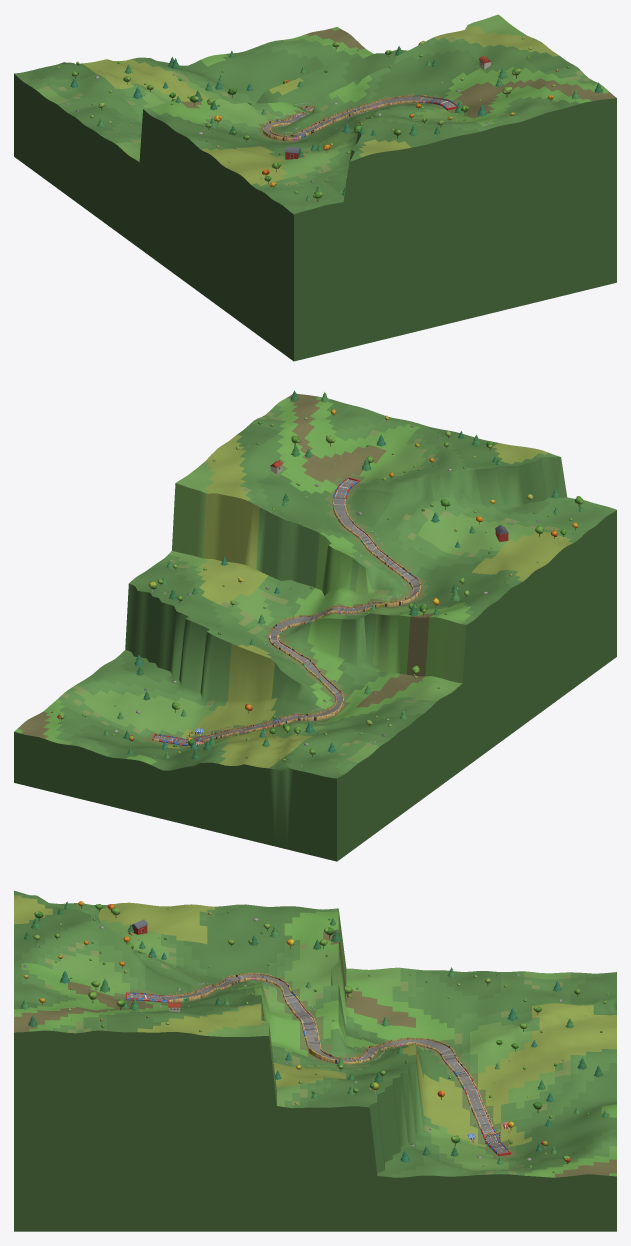
3 views of the same model, one above another, from view 1: azimuth 30°, elevation 25°; view 2: azimuth 150°, elevation 25°; view 3: azimuth 270°, elevation 25° (orthographic). The views are drawn at different scales.
Parts seen in each view (by area): view 1: grass, pines, hay, leafy trees, road; view 2: grass, hay, road, pines, leafy trees; view 3: grass, road, hay, pines, leafy trees, buildings, bushes.
Boxes of the visible parts, box(x1,y1,x2,y2) form: grass: box(14, 14, 616, 361); pines: box(70, 46, 602, 201); hay: box(262, 94, 457, 141); leafy trees: box(72, 40, 521, 198); road: box(264, 96, 455, 137); grass: box(14, 393, 616, 861); hay: box(152, 477, 421, 746); road: box(154, 479, 419, 743); pines: box(103, 390, 583, 759); leafy trees: box(58, 431, 583, 754); grass: box(14, 890, 616, 1231); road: box(127, 975, 507, 1153); hay: box(125, 972, 511, 1155); pines: box(20, 901, 607, 1164); leafy trees: box(33, 904, 580, 1160); buildings: box(128, 919, 510, 1143); bushes: box(25, 908, 608, 1172).
Size of the model in its own units: 260 by 153 by 390.
